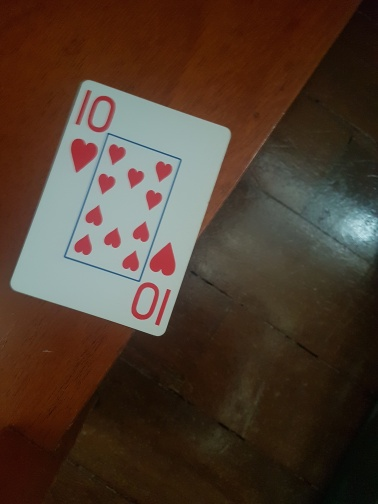ten: (11, 81, 231, 336)
